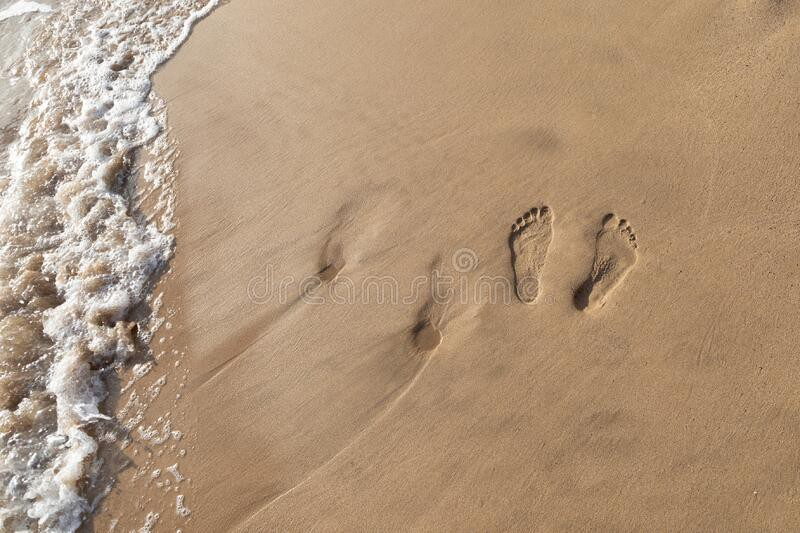human_footprint: (313, 186, 409, 279), (573, 202, 647, 316), (503, 202, 562, 315)
